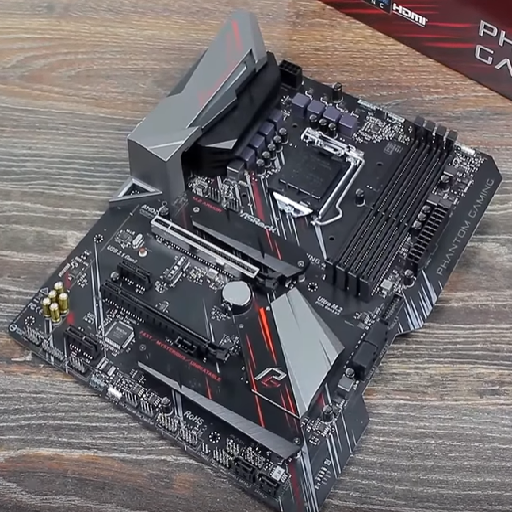CPU: (265, 119, 366, 230)
GPU: (97, 270, 240, 374), (150, 204, 307, 298)
MOTHERBOARD: (11, 5, 501, 512)
RAM: (321, 115, 461, 298)
SSD: (152, 251, 196, 294)
